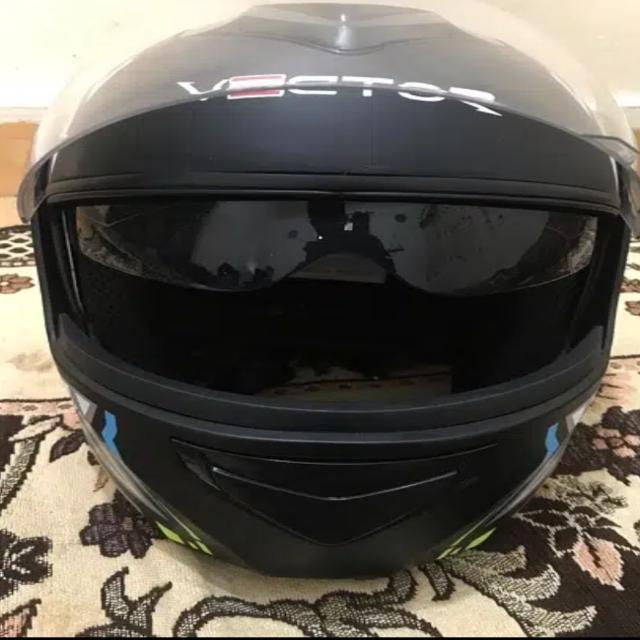Helmet: (52, 0, 636, 591)
